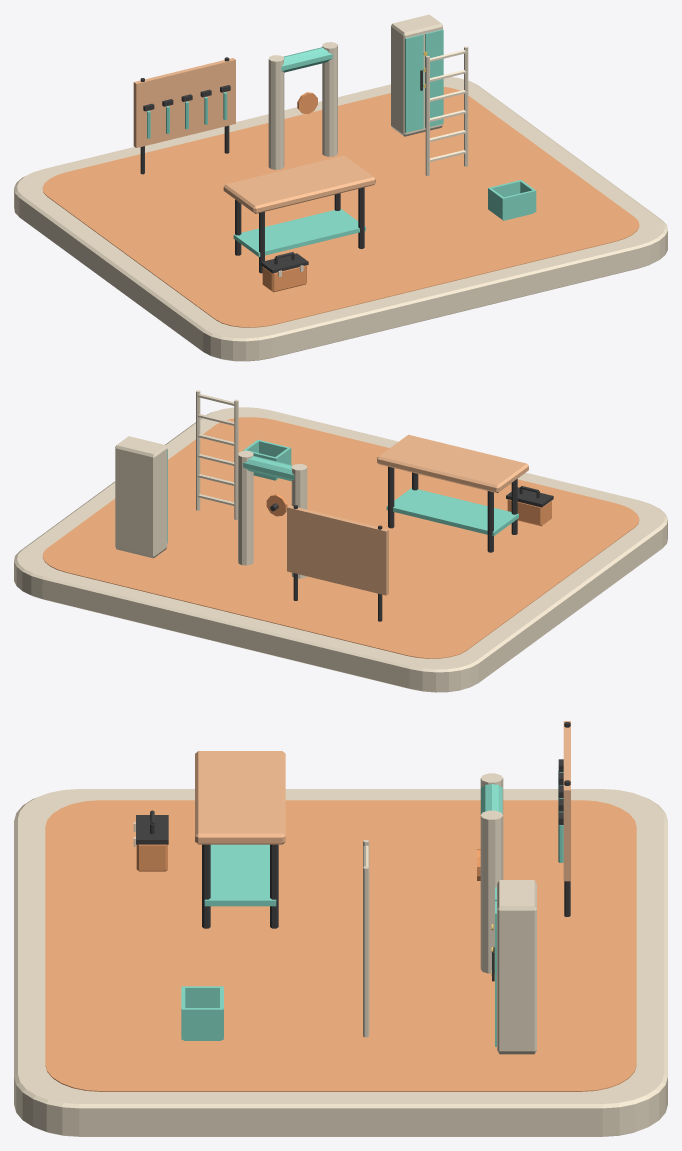
The model's file is room.fbx.
3 renders of one model, top to bottom at view 1: azimuth 30°, elevation 25°; view 2: azimuth 150°, elevation 25°; view 3: azimuth 270°, elevation 25°, orthographic. The views are drawn at different scales.
Parts seen in each view (by area): view 1: COM-02 Floor Surface, COM-01 Rounded Base Direct, Peg board, Worktop, Lower shelf, Equipment case, Pipe, Door, Pipe.001, Door.001, Box, Cross pipe (+4 smaller); view 2: COM-02 Floor Surface, COM-01 Rounded Base Direct, Peg board, Equipment case, Worktop, Lower shelf, Pipe.001, Cross pipe, Pipe, Box, Rail.001, Rail (+1 smaller); view 3: COM-02 Floor Surface, COM-01 Rounded Base Direct, Worktop, Equipment case, Lower shelf, Pipe.001, Bin side.001, Peg board, Rail.001, Lid, Box, Bin side (+2 smaller).
Part boxes in pixels (<box>): COM-02 Floor Surface: <box>42,87,639,327</box>; COM-01 Rounded Base Direct: <box>14,77,667,361</box>; Peg board: <box>133,58,235,147</box>; Worktop: <box>223,155,375,213</box>; Lower shelf: <box>233,209,365,256</box>; Equipment case: <box>391,14,442,136</box>; Pipe: <box>268,55,284,169</box>; Door: <box>405,34,423,132</box>; Pipe.001: <box>322,42,337,156</box>; Door.001: <box>425,29,443,127</box>; Box: <box>262,265,306,292</box>; Cross pipe: <box>281,47,332,72</box>; COM-02 Floor Surface: <box>42,417,639,658</box>; COM-01 Rounded Base Direct: <box>14,407,667,692</box>; Peg board: <box>287,505,388,595</box>; Equipment case: <box>115,436,167,558</box>; Worktop: <box>377,434,528,493</box>; Lower shelf: <box>386,488,518,536</box>; Pipe.001: <box>238,450,253,565</box>; Cross pipe: <box>243,456,294,481</box>; Pipe: <box>291,463,307,578</box>; Box: <box>507,499,551,526</box>; Rail.001: <box>196,390,200,510</box>; Rail: <box>234,399,238,519</box>; COM-02 Floor Surface: <box>45,800,636,1091</box>; COM-01 Rounded Base Direct: <box>14,789,667,1136</box>; Worktop: <box>195,751,285,844</box>; Equipment case: <box>497,880,536,1054</box>; Lower shelf: <box>204,844,276,906</box>; Pipe.001: <box>480,810,503,973</box>; Bin side.001: <box>181,1008,223,1039</box>; Peg board: <box>563,721,570,881</box>; Rail.001: <box>363,866,369,1037</box>; Lid: <box>136,815,168,844</box>; Box: <box>136,844,167,871</box>; Bin side: <box>181,986,223,1007</box>.
Size of the model in its own units: 600 by 180 by 520.
